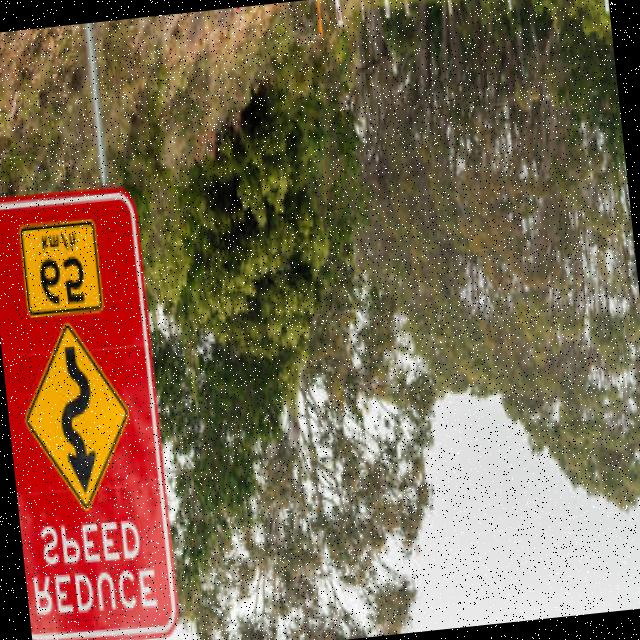left_sharp_curve: (17, 317, 138, 518)
